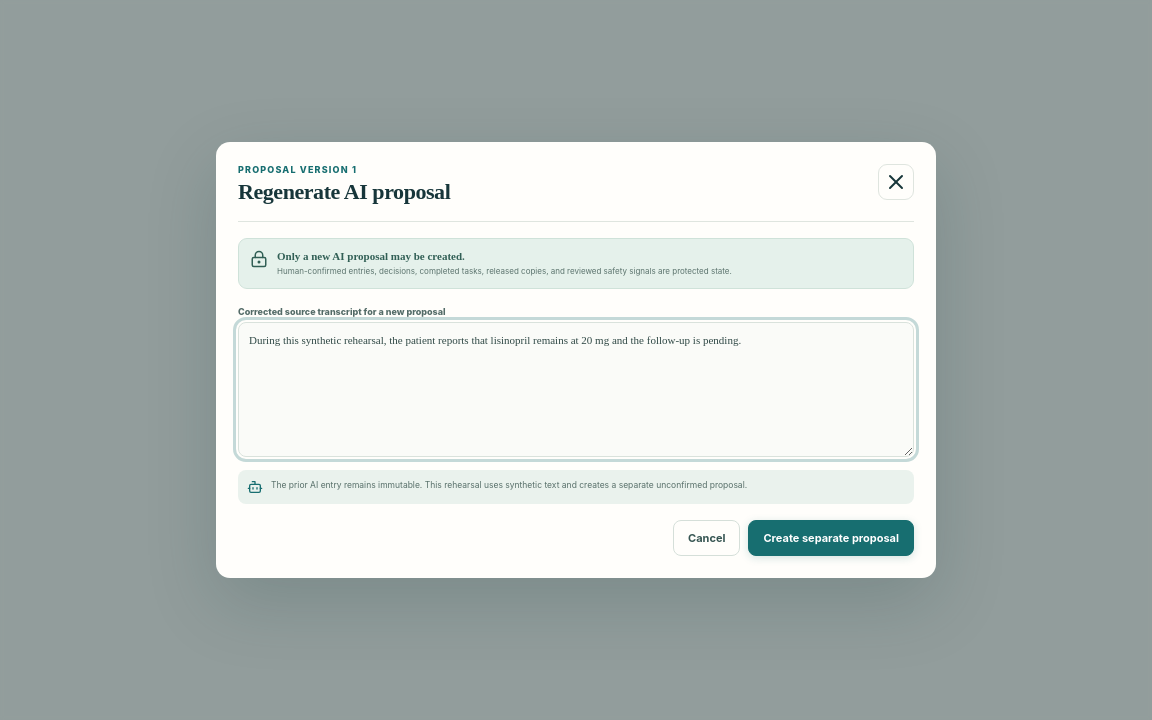
it: regeneration failures remain in the proposal dialog
Click the button "Create separate proposal" at (831, 538), box [748,520,914,556]
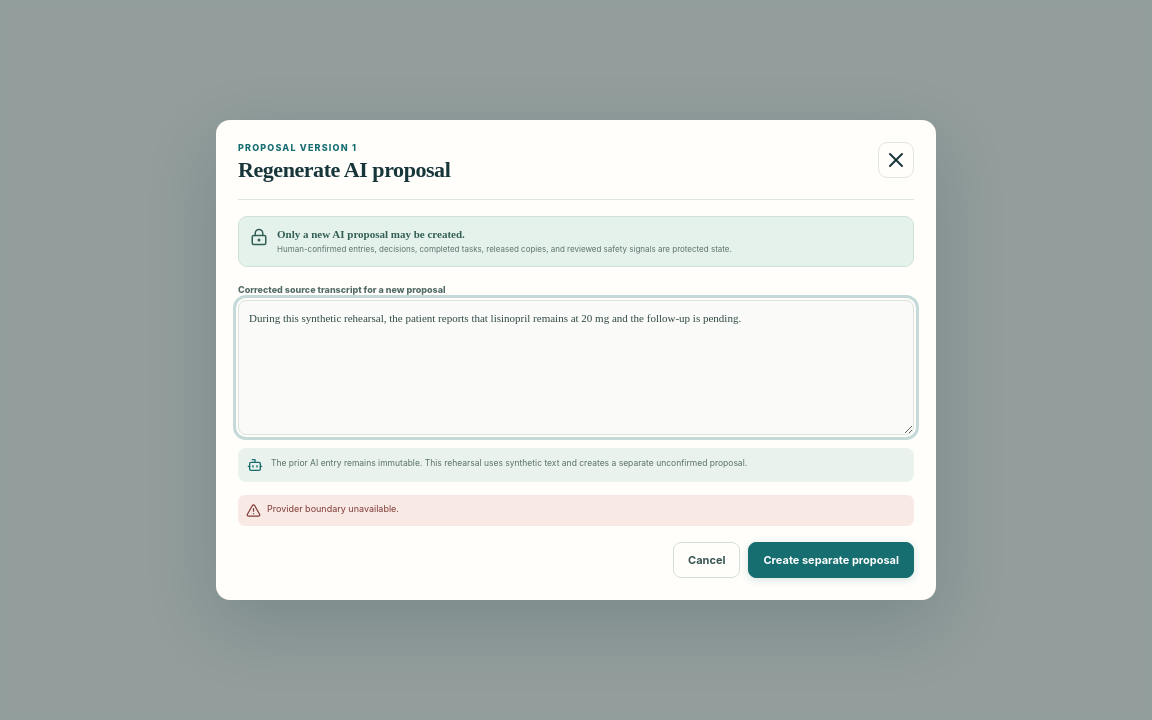
Expected: the button "Create separate proposal" is enabled, [748,542,914,578]
Expected: the text "Provider boundary unavailable." is shown, [238,495,914,526]
